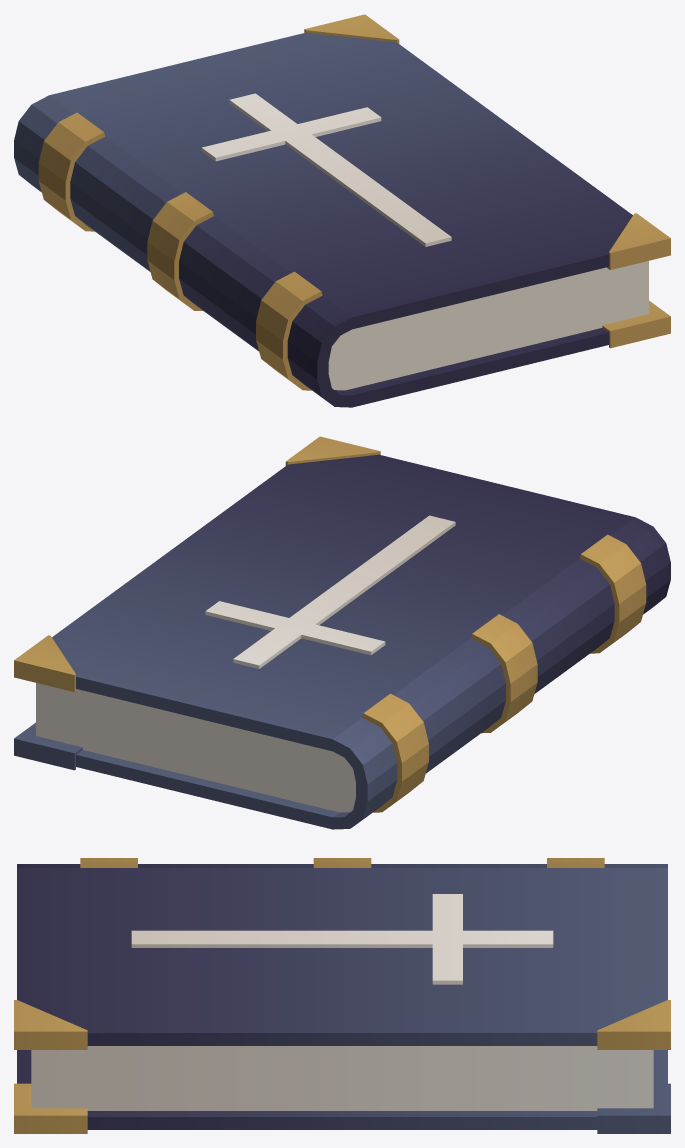
File: SM_Book_03.fbx
3 views of the same model, one above another, from view 1: azimuth 30°, elevation 25°; view 2: azimuth 150°, elevation 25°; view 3: azimuth 270°, elevation 25° (orthographic). The views are drawn at different scales.
Visible parts, largest first — view 1: SM_Book_03; view 2: SM_Book_03; view 3: SM_Book_03.
Part boxes in pixels (left/top/right/bottom): SM_Book_03: left=14, top=14, right=670, bottom=407; SM_Book_03: left=14, top=436, right=670, bottom=829; SM_Book_03: left=14, top=858, right=670, bottom=1133.
Bounding box in the file's own units: 15.3 × 4.09 × 22.7.
